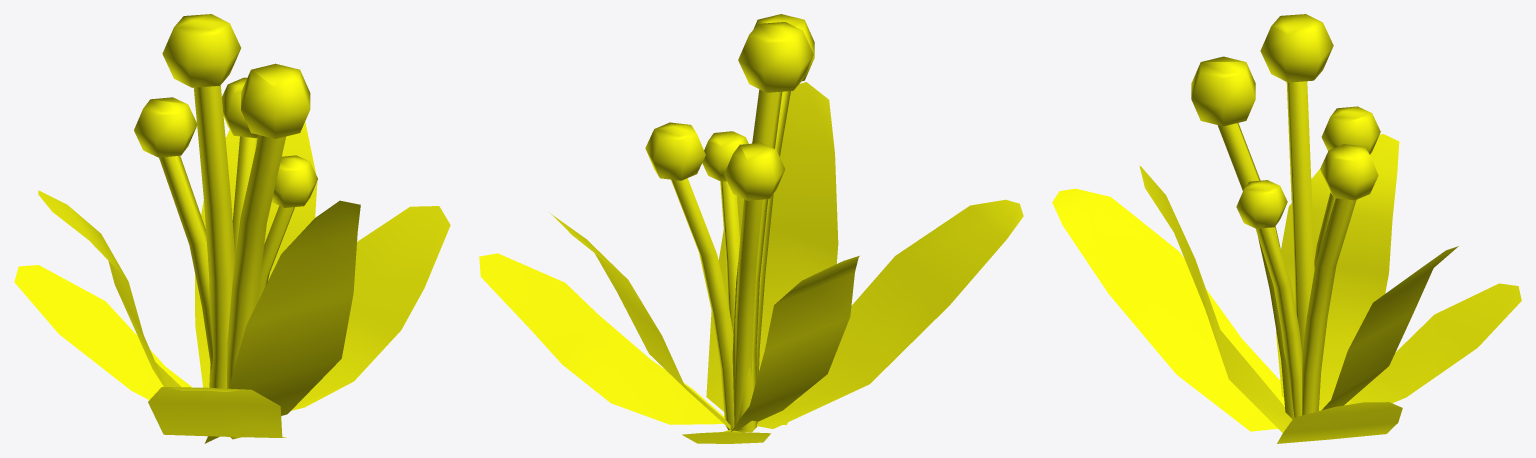
File: FlowerStalk_3.fbx
3 views of the same model, side by side, from view 1: azimuth 30°, elevation 25°; view 2: azimuth 150°, elevation 25°; view 3: azimuth 270°, elevation 25° (orthographic). The views are drawn at different scales.
Visible parts, largest first — view 1: FlowerStalk_3; view 2: FlowerStalk_3; view 3: FlowerStalk_3.
Part boxes in pixels (x1=…): FlowerStalk_3: x1=14, y1=14, x2=450, y2=443; FlowerStalk_3: x1=479, y1=14, x2=1023, y2=443; FlowerStalk_3: x1=1052, y1=14, x2=1521, y2=443.
Size of the model in its own units: 162 by 159 by 172.
